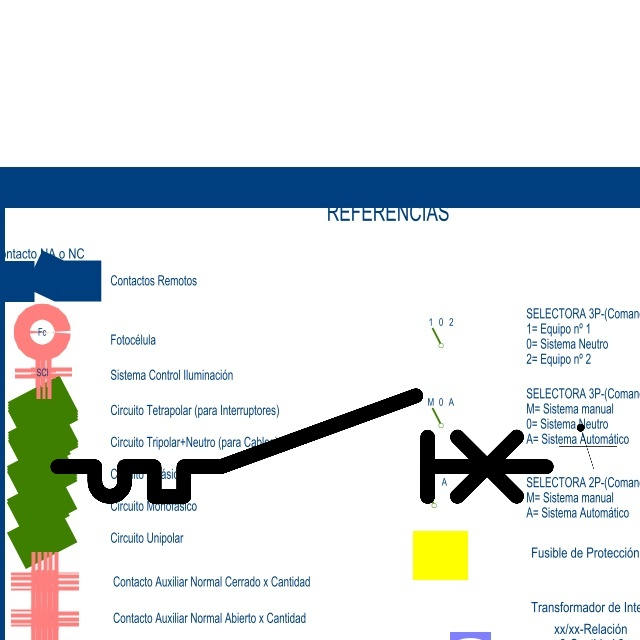interruptor_termomagnetico: (45, 383, 559, 509)
